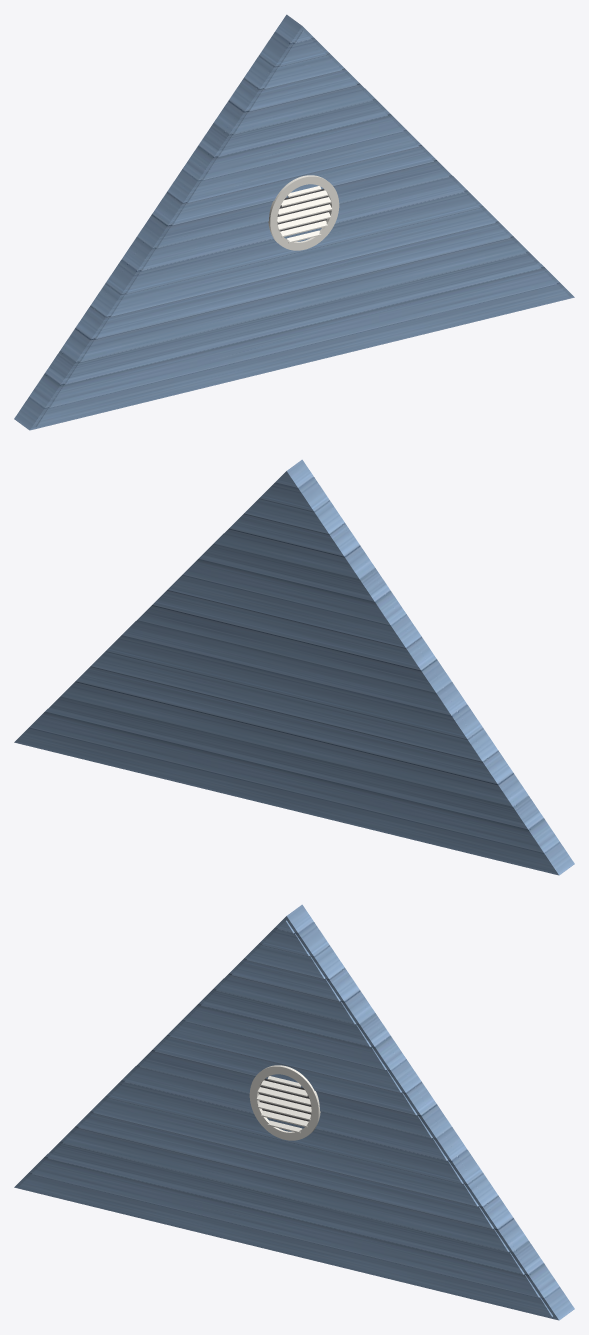
Rendered from gable_back_d.glb.
3 views of the same model, one above another, from view 1: azimuth 30°, elevation 25°; view 2: azimuth 150°, elevation 25°; view 3: azimuth 330°, elevation 25° (orthographic).
Parts seen in each view (by area): view 1: gable_back_d_siding_d, gable_back_d_trim; view 2: gable_back_d_siding_d; view 3: gable_back_d_siding_d, gable_back_d_trim.
Part boxes in pixels (x1,y1,x2,y2): gable_back_d_siding_d: [14, 14, 574, 430]; gable_back_d_trim: [268, 175, 339, 250]; gable_back_d_siding_d: [14, 459, 574, 875]; gable_back_d_siding_d: [14, 904, 574, 1320]; gable_back_d_trim: [249, 1065, 320, 1140].
Bounding box in the file's own units: 6 × 3.56 × 0.35.
Materials: 3 (1 with a texture image).
